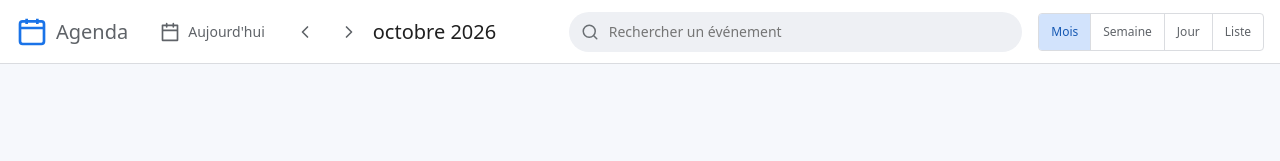
Scenario: AppHeader › résultats de recherche › affiche un message quand rien ne correspond
Type "zzz" into the search field with placeholder "Rechercher un événement" at {"x": 796, "y": 32}, box x1=569 y1=12 x2=1022 y2=52
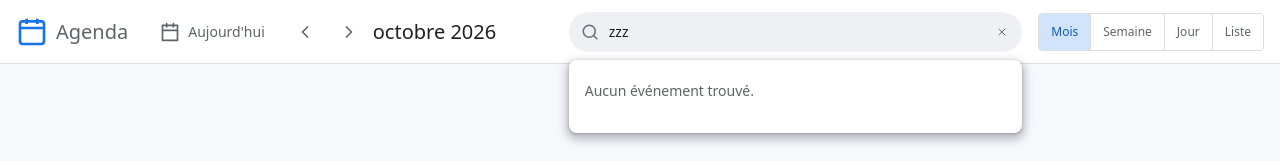
expect the text "Aucun événement trouvé." is shown: met, box x1=585 y1=80 x2=754 y2=100
